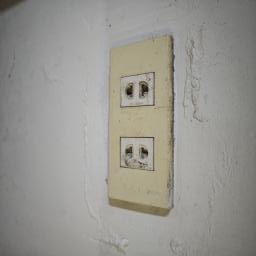outlet: (104, 32, 175, 215)
